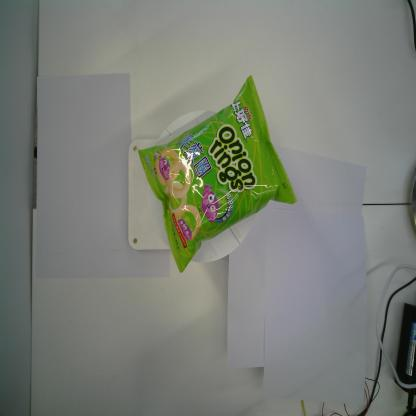Puffed Food: (136, 73, 298, 274)
